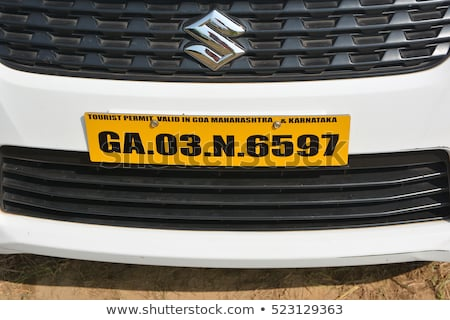number_plate: (83, 109, 351, 170)
